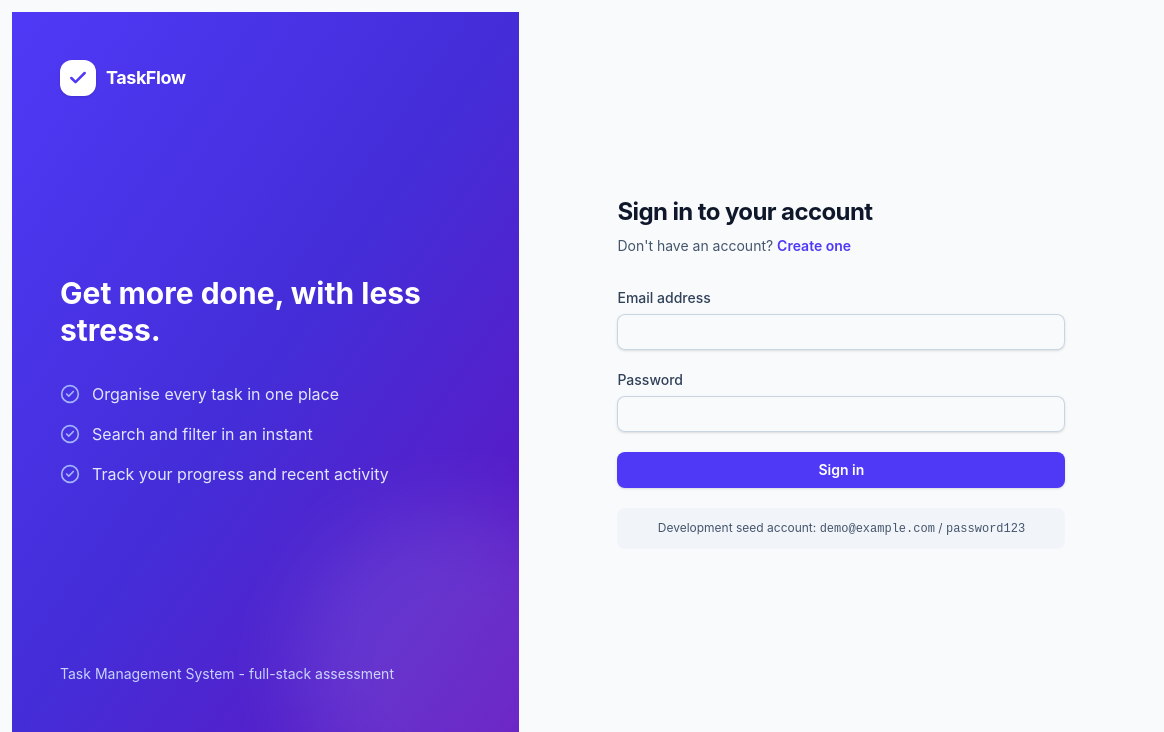
Test case: LoginPage › logs in, shows a welcome toast, and navigates to the dashboard
This screenshot has width=1164, height=732.
Type "jane@example.com" into the field labelled "Email address".
click(841, 332); type("jane@example.com")  # box [617, 314, 1065, 350]
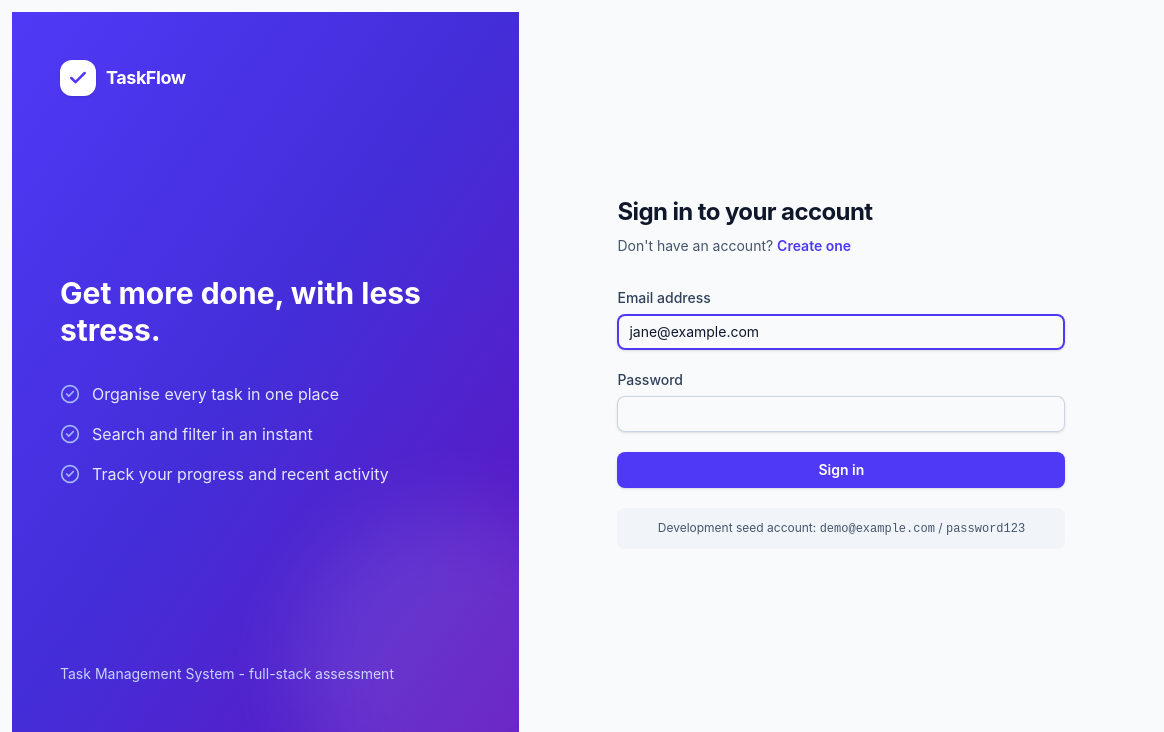
Type "password123" into the password field labelled "Password".
click(841, 414); type("password123")  # box [617, 396, 1065, 432]
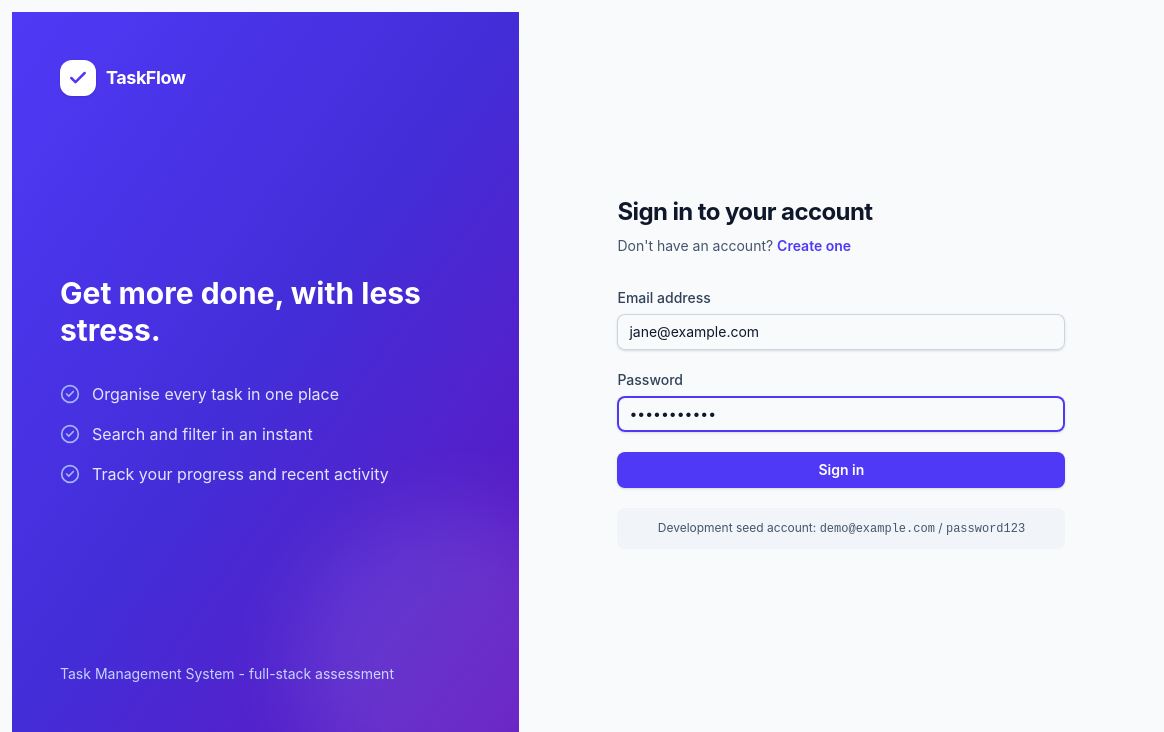
Click the button "Sign in".
click(841, 470)  # box [617, 452, 1065, 488]
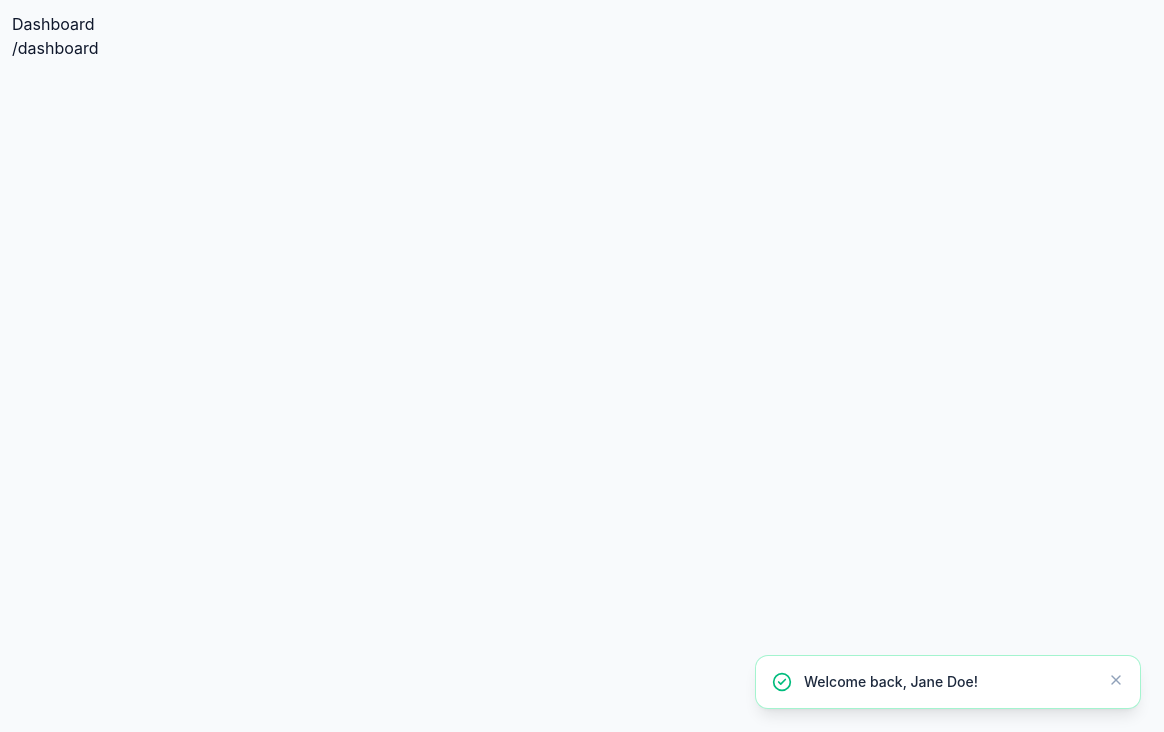
Expected: the heading "Dashboard" is shown, [12, 14, 94, 34]
Expected: the text "Welcome back, Jane Doe!" is shown, [804, 673, 978, 690]
